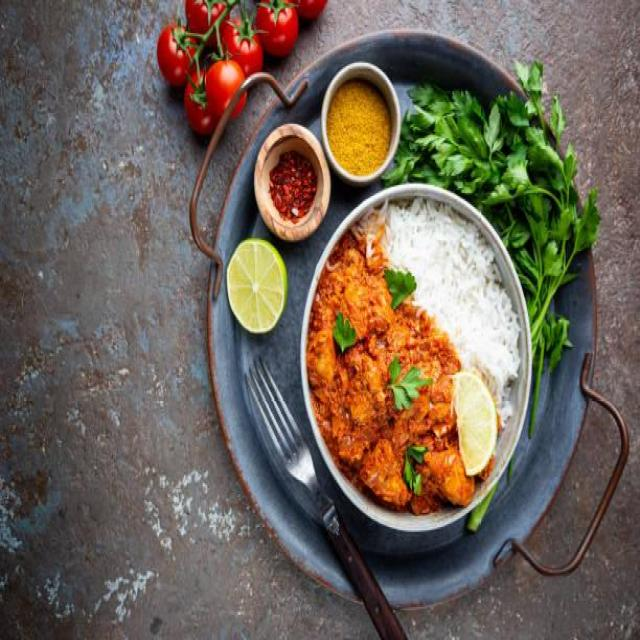chicken: (313, 259, 457, 488)
rice: (397, 182, 509, 357)
